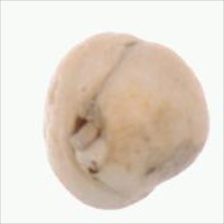L3: (70, 104, 109, 176)
L4: (42, 31, 210, 211)
